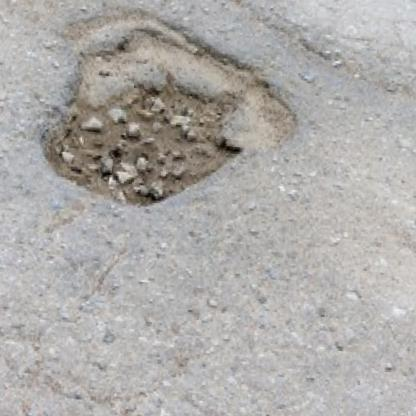pothole: (26, 0, 314, 228)
